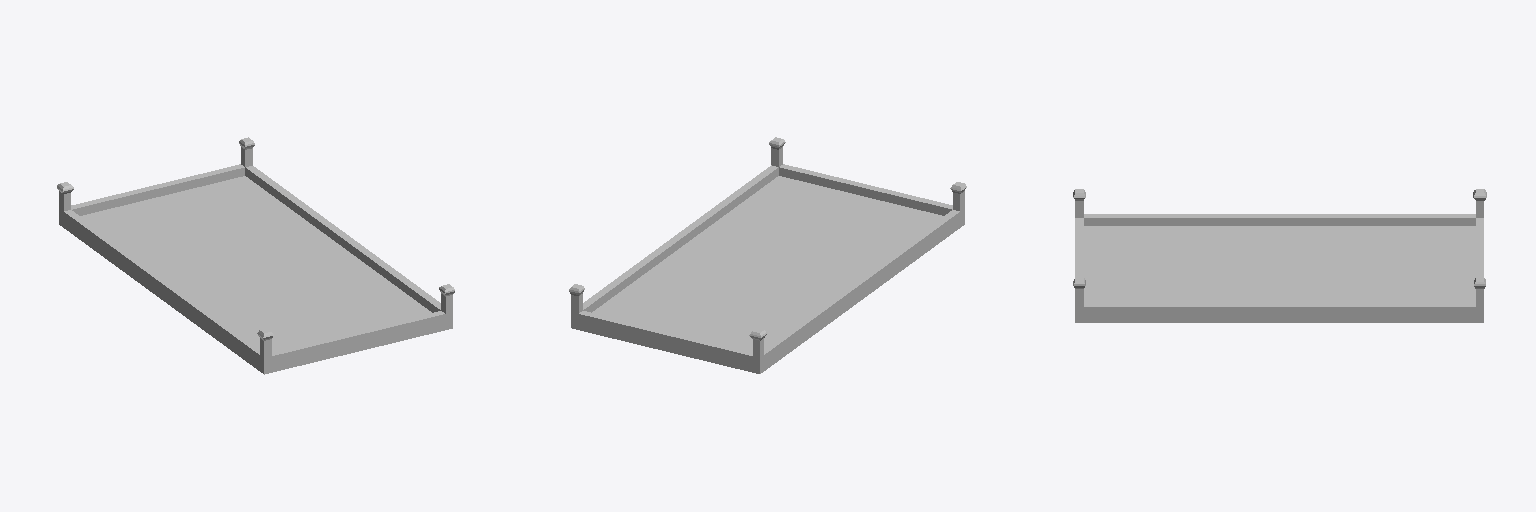
File: 25x47WalledRooftop.obj
3 views of the same model, side by side, from view 1: azimuth 30°, elevation 25°; view 2: azimuth 150°, elevation 25°; view 3: azimuth 270°, elevation 25° (orthographic).
Parts seen in each view (by area): view 1: pCube20; view 2: pCube20; view 3: pCube20.
Boxes of the visible parts, x1,y1,x2,y2 form: pCube20: [57, 137, 454, 374]; pCube20: [569, 137, 966, 373]; pCube20: [1073, 189, 1486, 322].
Bounding box in the file's own units: 25.46 × 5.22 × 47.33.